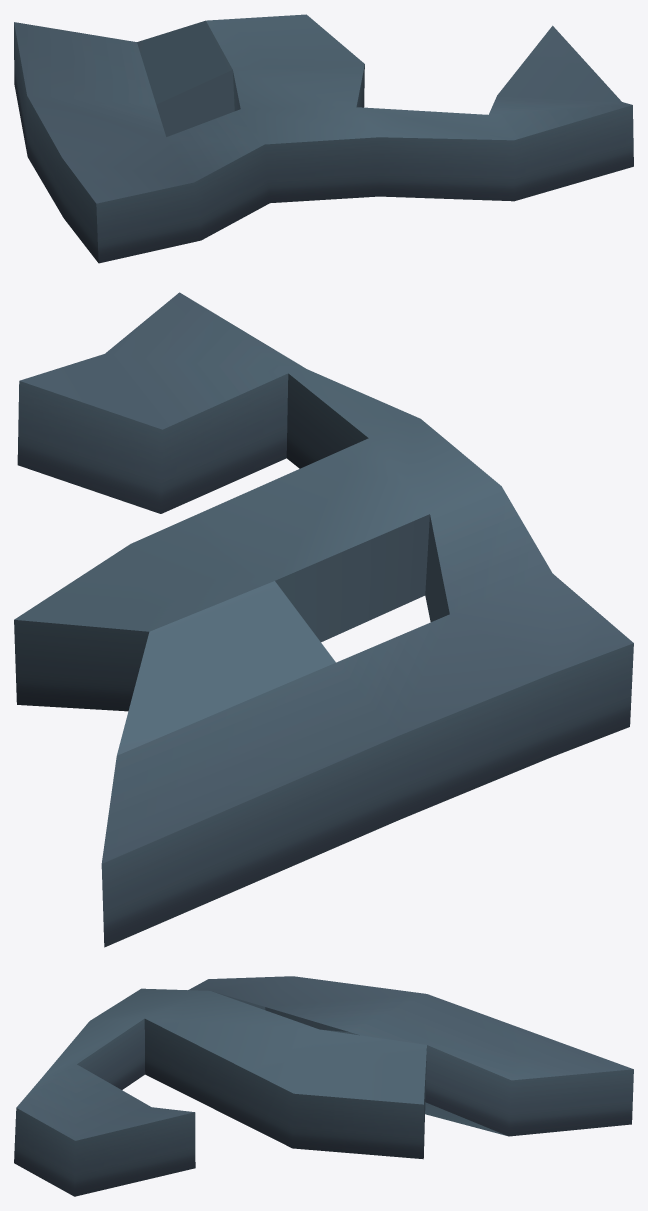
Rendered from Building_T020.fbx.
3 renders of one model, top to bottom at view 1: azimuth 30°, elevation 25°; view 2: azimuth 150°, elevation 25°; view 3: azimuth 270°, elevation 25°, orthographic. The views are drawn at different scales.
Parts seen in each view (by area): view 1: Building_T020; view 2: Building_T020; view 3: Building_T020.
Boxes of the visible parts, x1,y1,x2,y2 form: Building_T020: [14, 14, 633, 263]; Building_T020: [14, 292, 633, 947]; Building_T020: [14, 976, 633, 1196].
Size of the model in its own units: 20.76 by 6.99 by 26.85.
